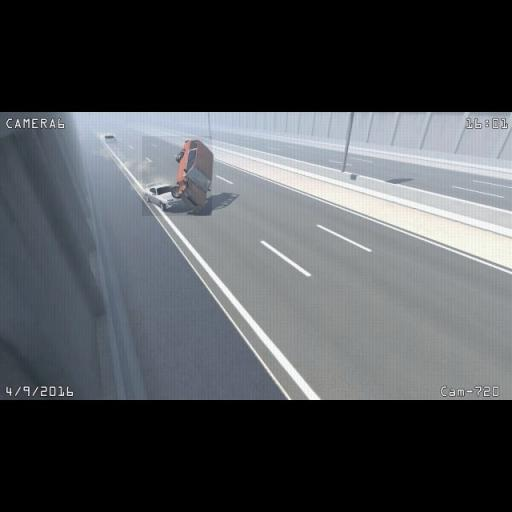小汽车撞小汽车: (142, 136, 212, 216)
